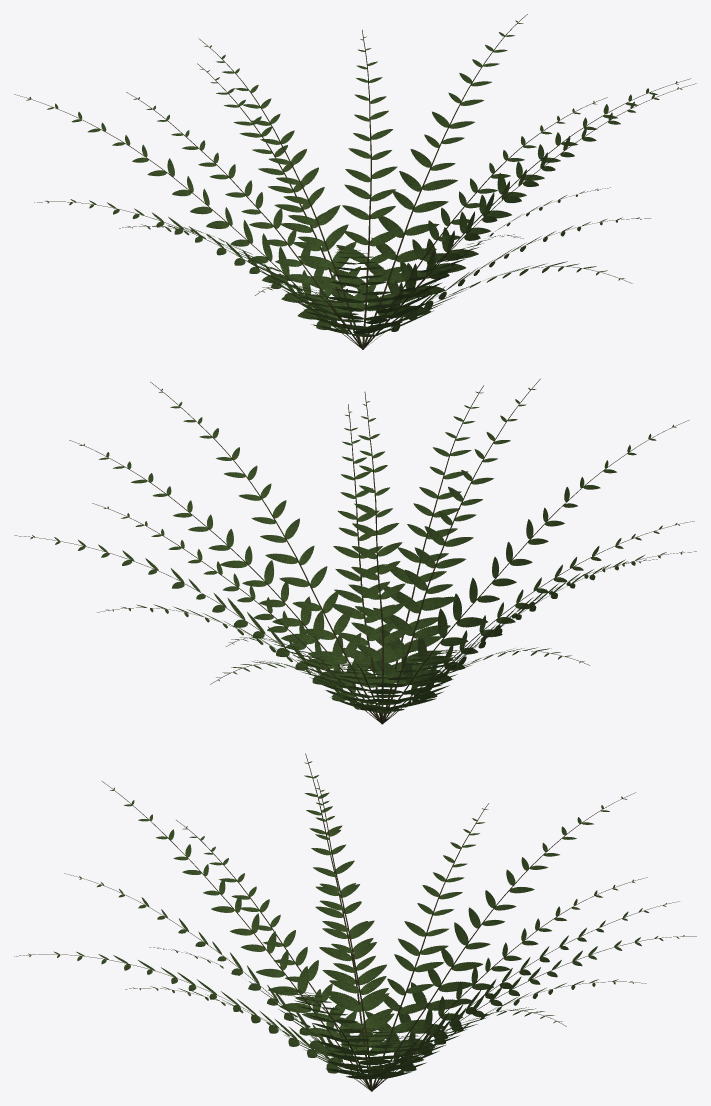
File: lady_fern_v02_LOD1.fbx
The picture shows the model from 3 angles, top to bottom: view 1: azimuth 30°, elevation 25°; view 2: azimuth 150°, elevation 25°; view 3: azimuth 270°, elevation 25°; orthographic projection. The views are drawn at different scales.
Parts seen in each view (by area): view 1: lady_fern_v02_LOD1; view 2: lady_fern_v02_LOD1; view 3: lady_fern_v02_LOD1.
Boxes of the visible parts, box(x1,y1,x2,y2) form: lady_fern_v02_LOD1: box(14, 14, 696, 349); lady_fern_v02_LOD1: box(14, 378, 696, 724); lady_fern_v02_LOD1: box(14, 753, 696, 1091).
Bounding box in the file's own units: 137 × 52.74 × 141.
2 materials, 2 textured.
